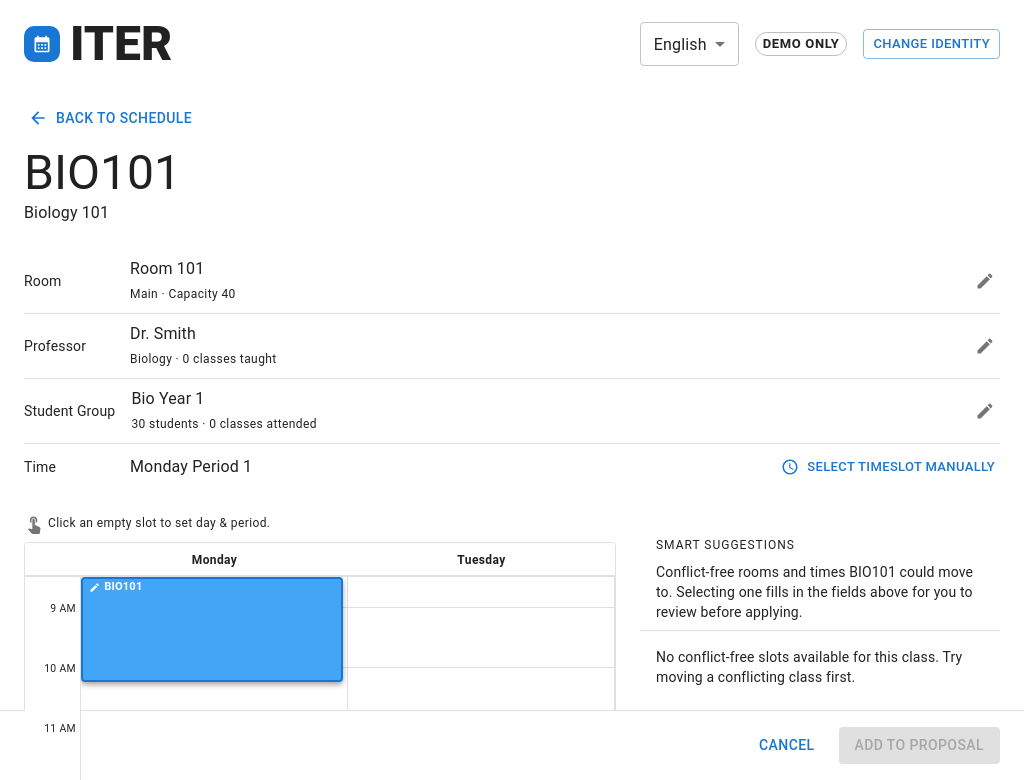
Test: EditClassPage › shows a capacity warning when the selected group is too big for the newly selected room
Click the button named "Change Room".
click(985, 280)  # box x1=970 y1=266 x2=1000 y2=296
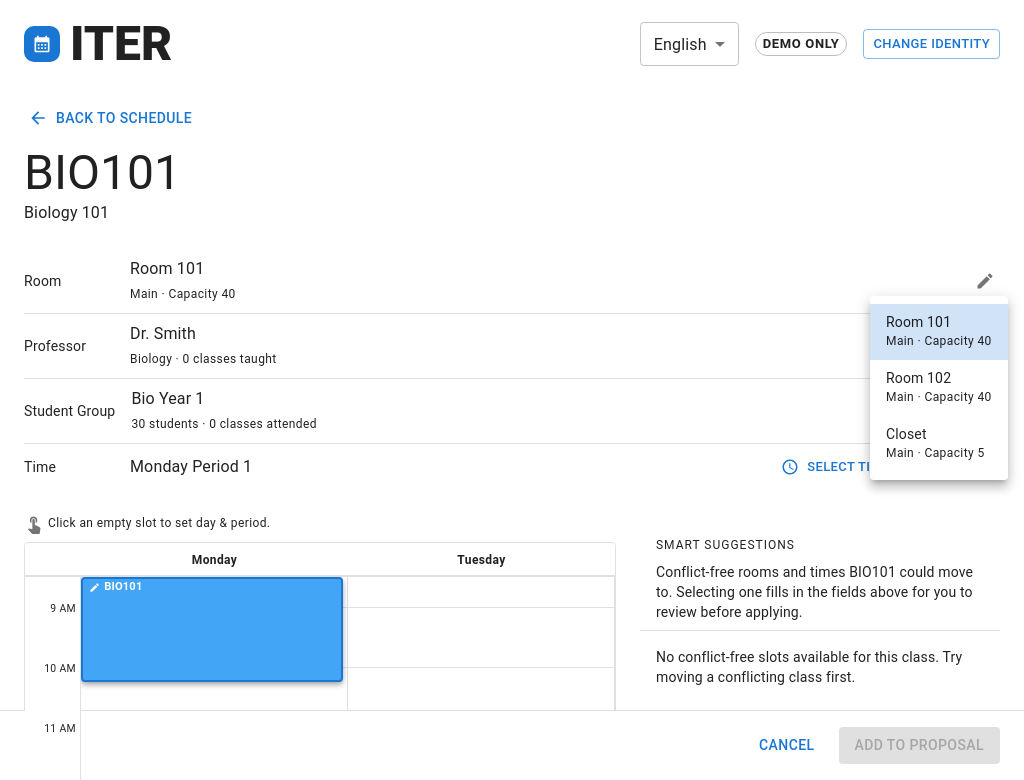
Click the menu item "Closet Main · Capacity 5".
click(906, 434)  # box x1=886 y1=426 x2=985 y2=460
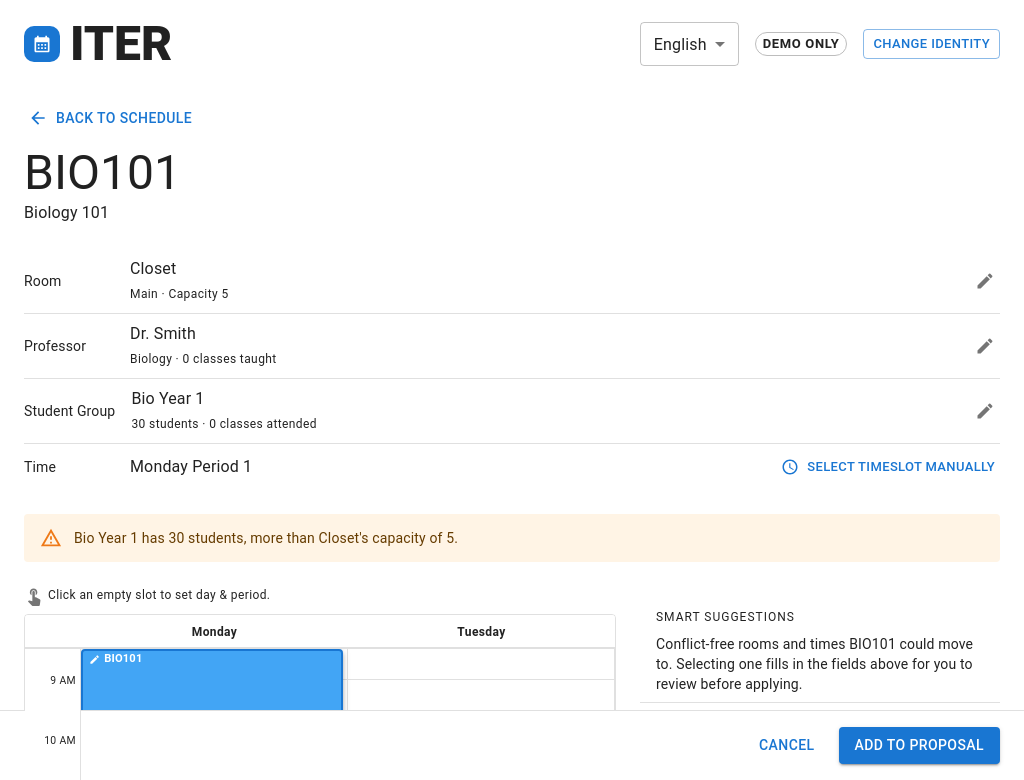
Result: the text "more than Closet's capacity of 5" is shown at x1=74 y1=530 x2=458 y2=546
